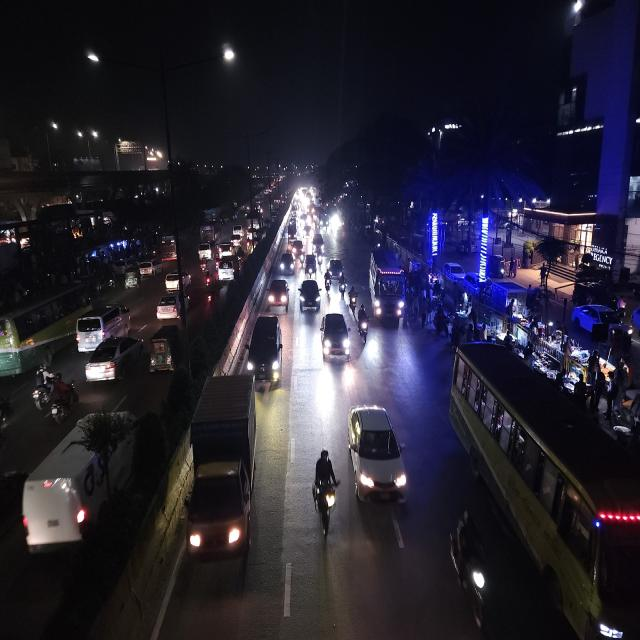bus: (450, 339, 640, 640), (0, 276, 106, 363), (366, 248, 406, 325)
car: (20, 422, 116, 566), (346, 400, 408, 511), (83, 333, 145, 388), (72, 301, 131, 350), (247, 312, 284, 390), (320, 308, 351, 364), (155, 288, 191, 322), (298, 274, 320, 316), (267, 275, 290, 312), (216, 254, 241, 285), (164, 269, 192, 292), (278, 250, 296, 276), (325, 256, 345, 279), (303, 251, 318, 279), (138, 258, 156, 278), (217, 239, 235, 257), (292, 236, 306, 258), (312, 234, 325, 254)
cng: (148, 324, 180, 377), (122, 265, 140, 292), (302, 252, 318, 278)
motorcycle: (448, 507, 492, 635), (311, 444, 338, 540), (49, 379, 79, 424), (31, 364, 56, 409), (202, 268, 215, 308), (357, 302, 369, 343), (202, 261, 214, 294), (348, 285, 358, 314), (201, 255, 213, 278), (324, 272, 333, 300), (338, 276, 346, 304)
truck: (185, 371, 261, 565)
